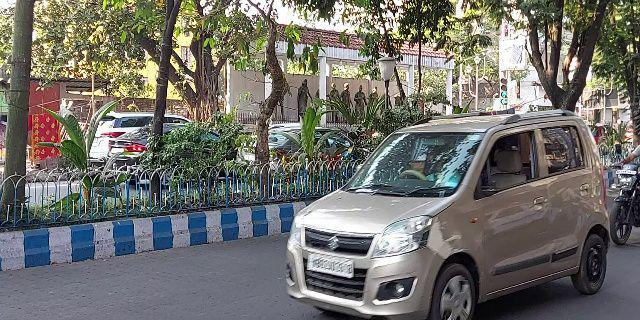Car: (276, 106, 610, 320)
Motorbike: (610, 149, 640, 252)
